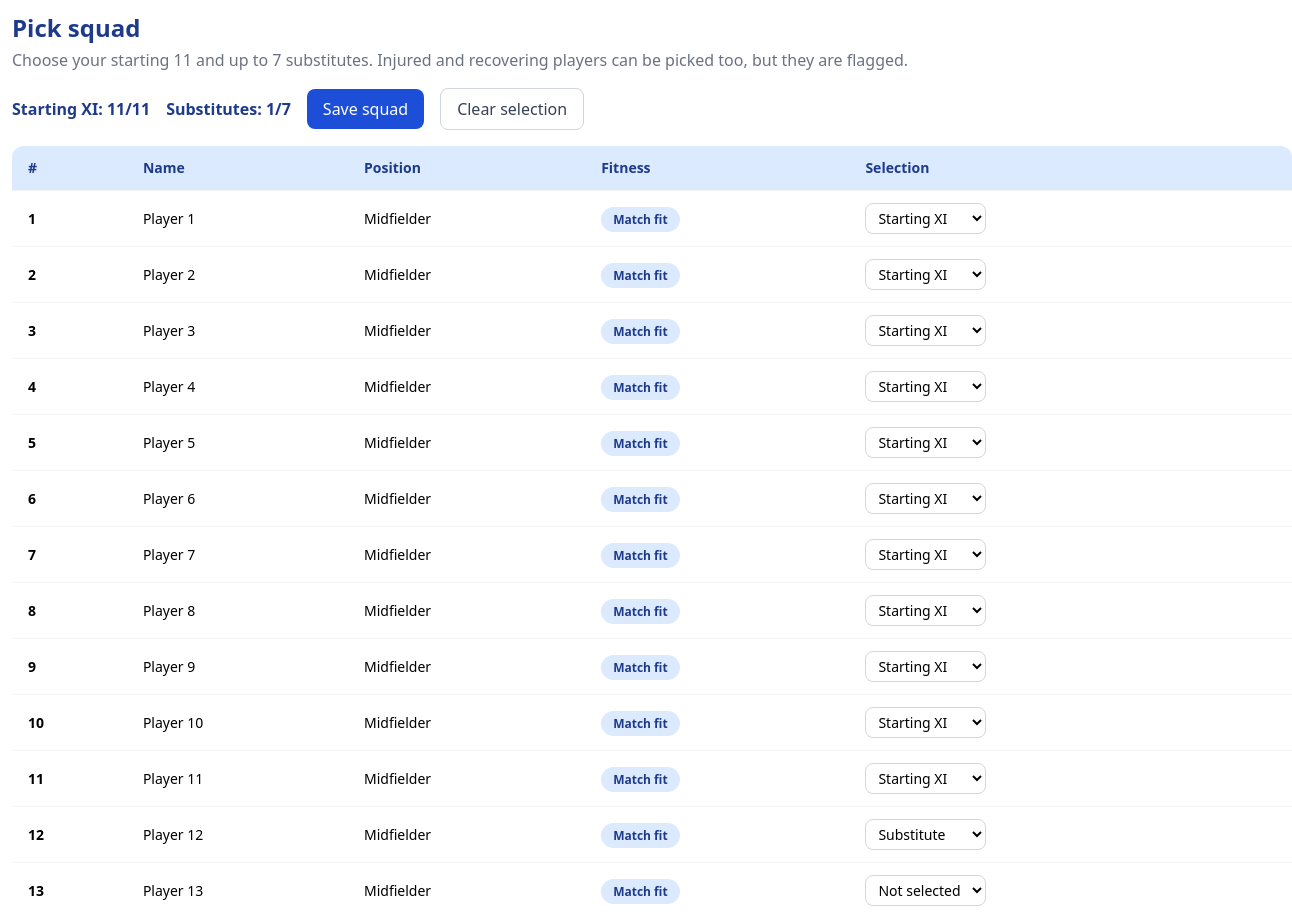
loads a saved squad, ignores players who have left, and updates it
The image size is (1292, 912).
Check: the text "Player 1" is shown, box [127,190,348,246]
Check: the text "Starting XI: 11/11" is shown, box [12,97,150,121]
Select "Substitute" in the dropdown named "Selection for Player 13": coordinates (926, 890) [865,875,986,906]
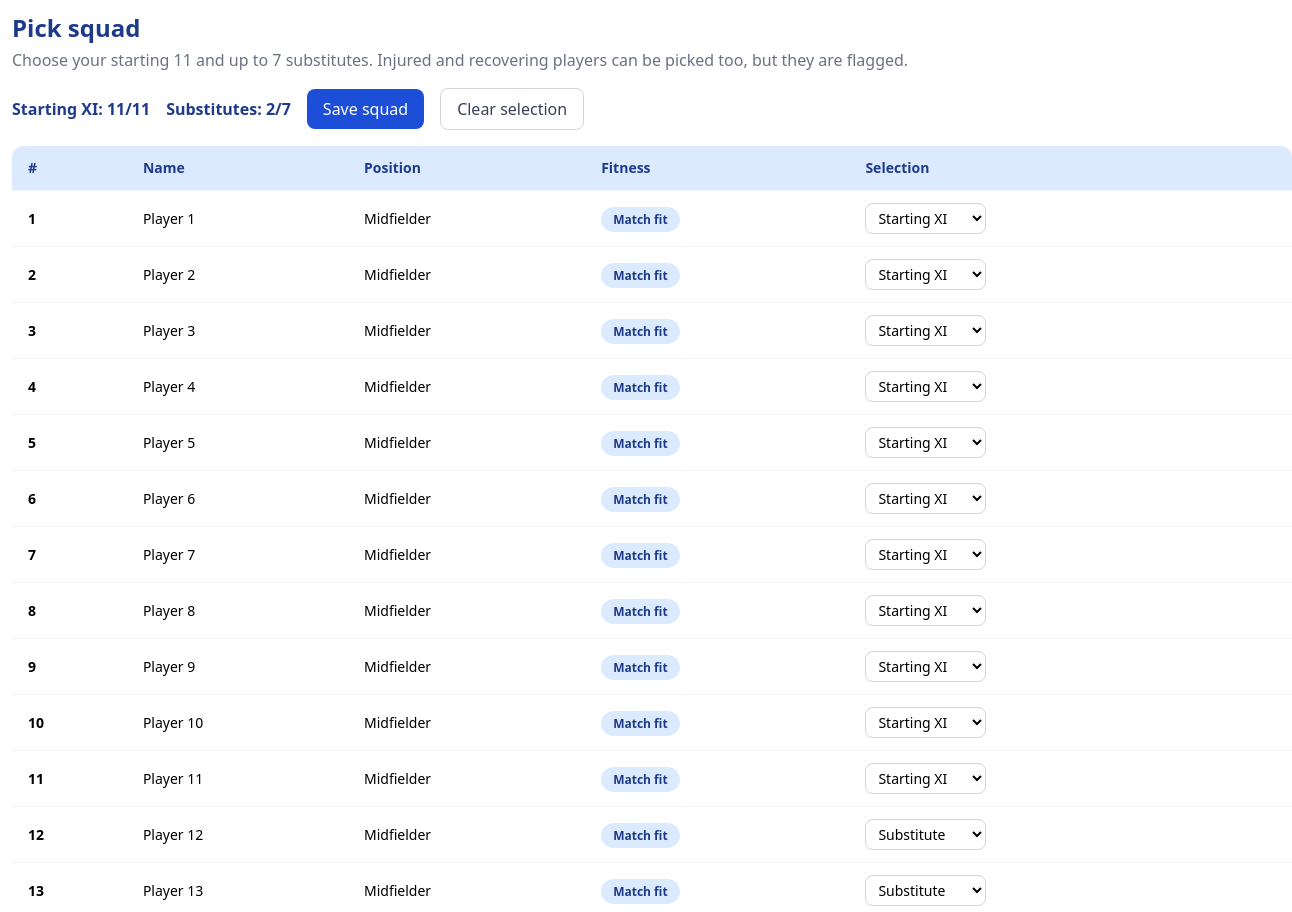
Click the button "Save squad": coordinates (365, 109) [307,89,424,129]
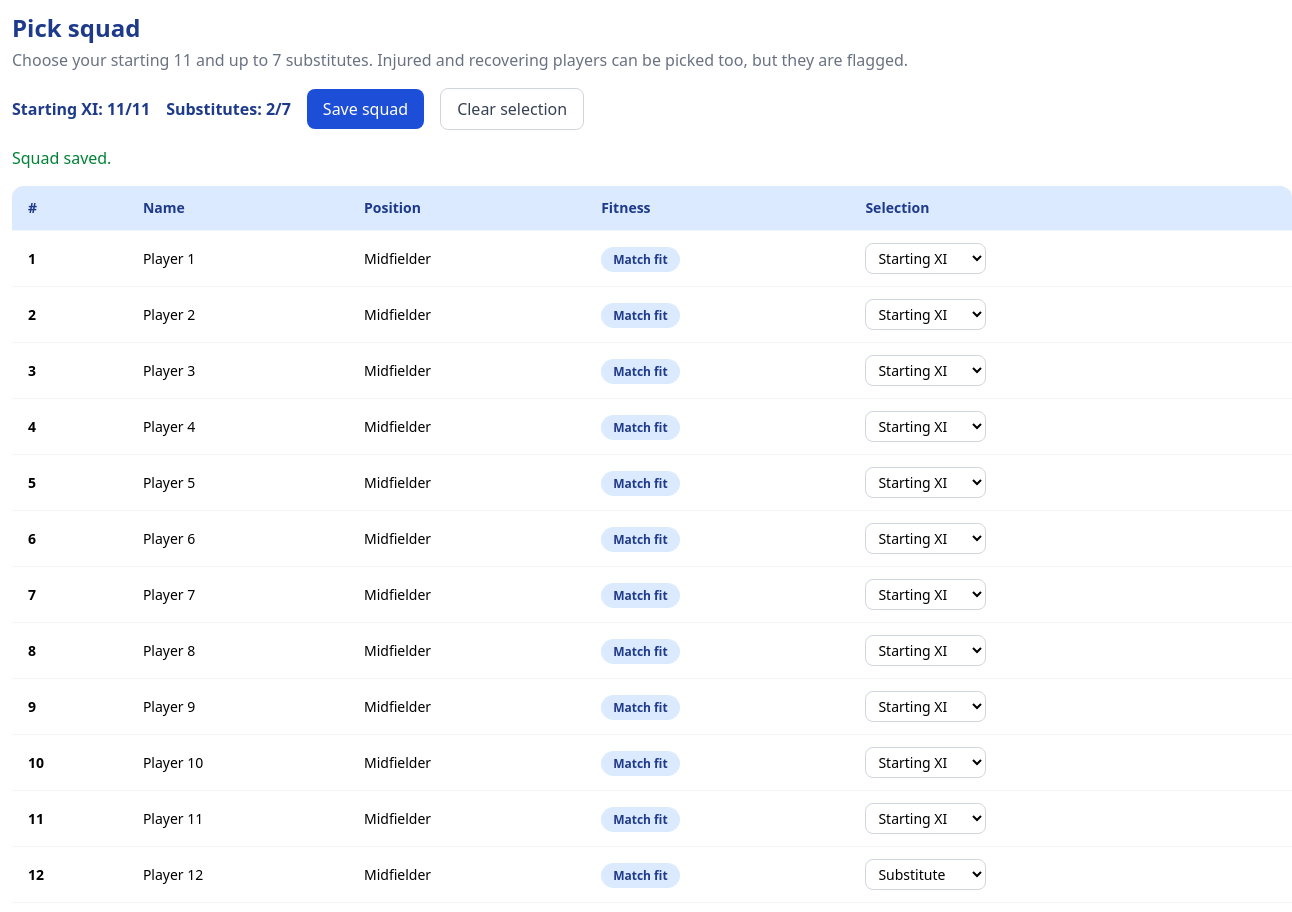
Check: the text "Squad saved." is shown, box [12,147,111,169]
